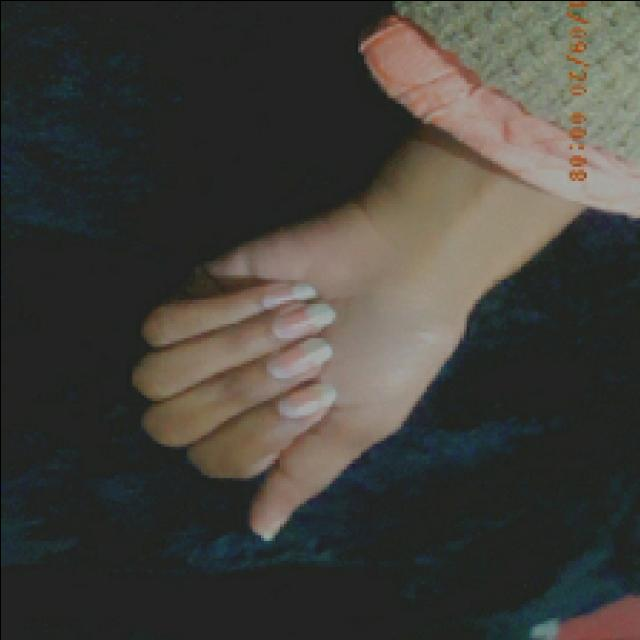Nail: (266, 337, 331, 378), (272, 300, 335, 336), (278, 382, 336, 418), (262, 282, 316, 306), (262, 513, 291, 539)
